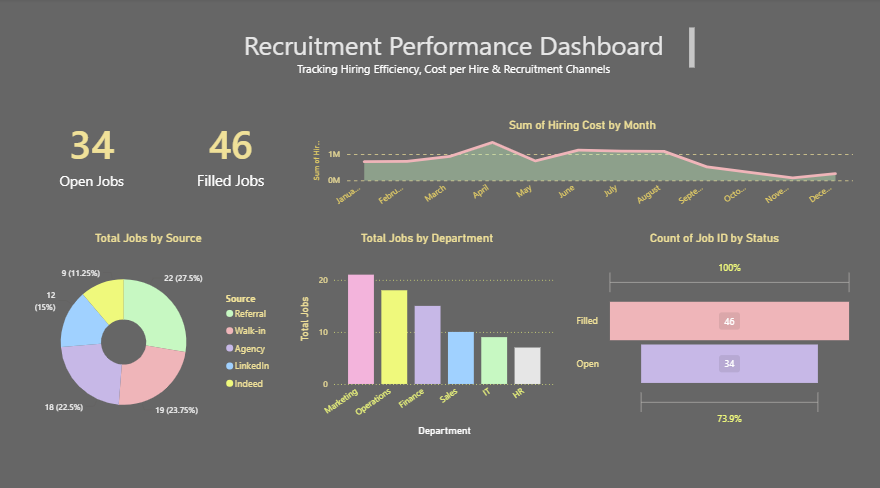

What the dashboard file says about the page in this screenshot:
{"tool":"powerbi","page":{"name":"Recruitment Performance Dashboard","canvas":[1280,720],"ordinal":1},"visuals":[{"type":"funnel","title":"Count of Job ID by Status","fields":{"Category":["Recruitment_Tracker.Status"],"Y":["CountNonNull(Recruitment_Tracker.Job_ID)"]},"box":[832.8,336.9,409.2,302.2],"z":0},{"type":"columnChart","fields":{"Category":["Employee_Master.Department"],"Y":["#Measures.Total Jobs"]},"box":[432.3,336.9,378.8,302.2],"z":1000},{"type":"donutChart","fields":{"Category":["Recruitment_Tracker.Source"],"Y":["#Measures.Total Jobs"]},"box":[30.4,336.9,377.3,302.2],"z":2000},{"type":"lineChart","title":"Sum of Hiring Cost by Month","fields":{"Category":["Recruitment_Tracker.Open_Date.Variation.Date Hierarchy.Month"],"Y":["Sum(Recruitment_Tracker.Hiring_Cost)"]},"box":[451.1,173.5,790.8,137.3],"z":3000},{"type":"cardVisual","fields":{"Data":["#Measures.Filled Jobs"]},"box":[244.3,137.3,188,173.5],"z":4000},{"type":"cardVisual","fields":{"Data":["#Measures.Open Jobs"]},"box":[30.4,137.3,214,173.5],"z":5000},{"type":"textbox","box":[316.6,37.6,696.9,94],"z":6000}]}

Visuals, with their boxes in screenshot pixels (x1, y1, x2, y2), scaled from the page's 1280x720 canvas onto the 880x488 screenshot:
"Count of Job ID by Status" funnel: 573 228 854 433
columnChart - Employee_Master.Department x #Measures.Total Jobs: 297 228 558 433
donutChart - Recruitment_Tracker.Source x #Measures.Total Jobs: 21 228 280 433
"Sum of Hiring Cost by Month" lineChart: 310 118 854 211
cardVisual - #Measures.Filled Jobs: 168 93 297 211
cardVisual - #Measures.Open Jobs: 21 93 168 211
textbox: 218 25 697 89
